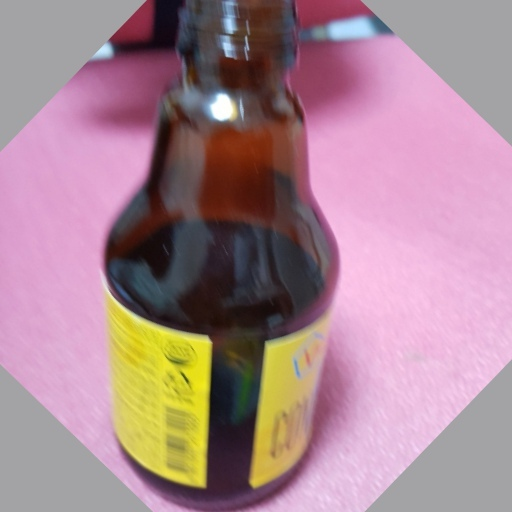Glass_3: (107, 1, 344, 512)
